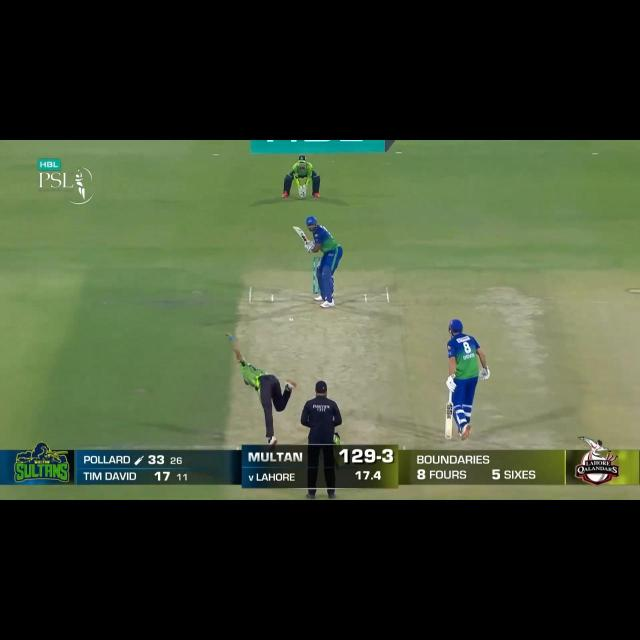bat: (291, 225, 309, 243), (444, 402, 452, 438)
toe: (443, 429, 454, 441), (291, 225, 301, 232)
